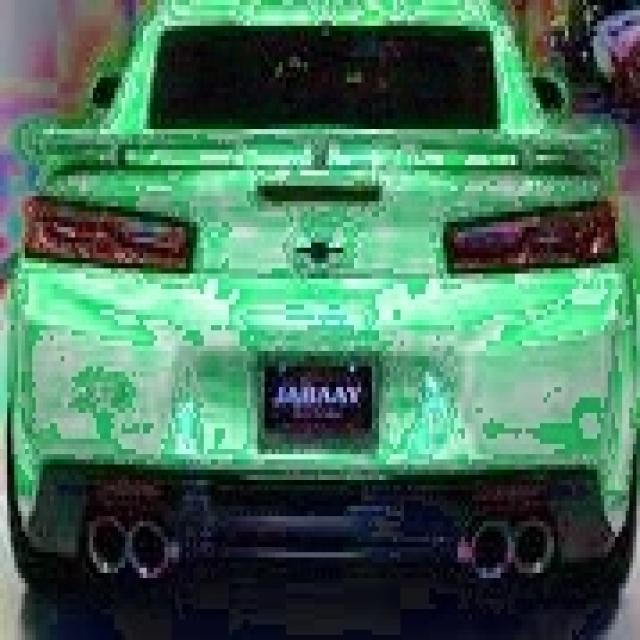green: (10, 0, 640, 614)
